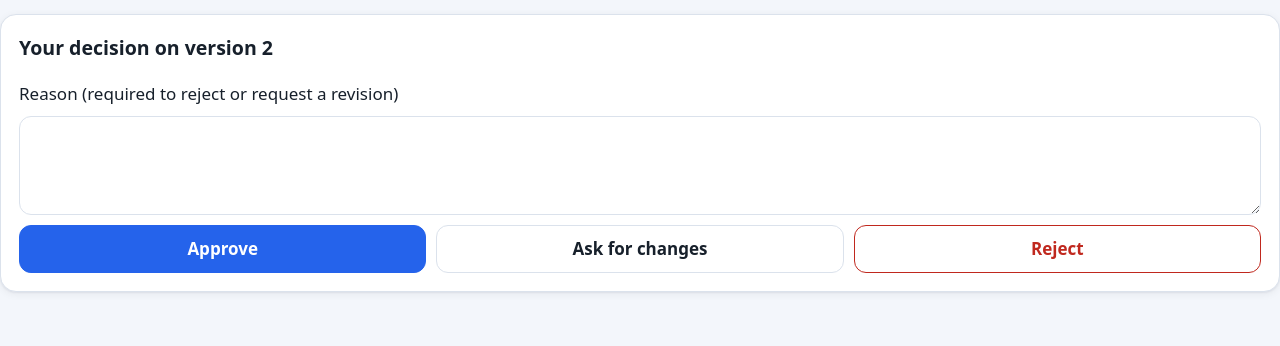
Scenario: DecisionPanel › requires a reason before rejecting and sends nothing
Click the button "Reject" at {"x": 1057, "y": 249}, box [854,225,1261,273]
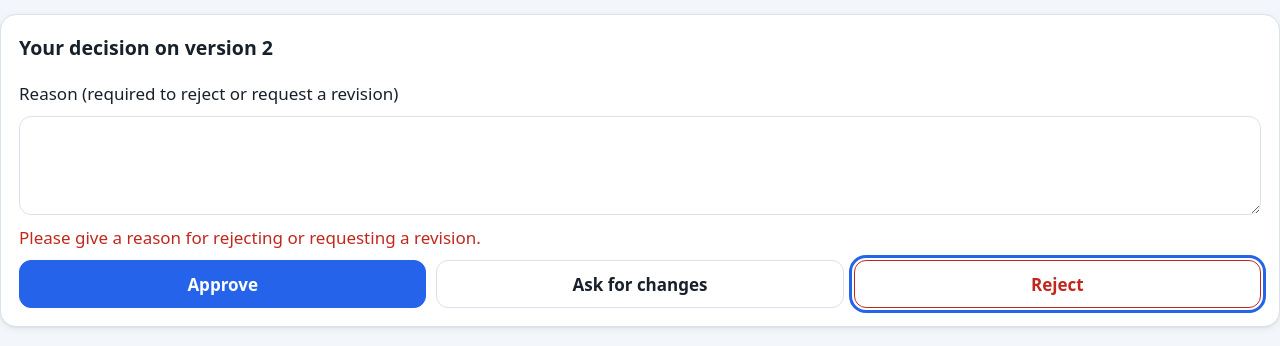
Now the message shows "reason", box [19,226,481,249]
